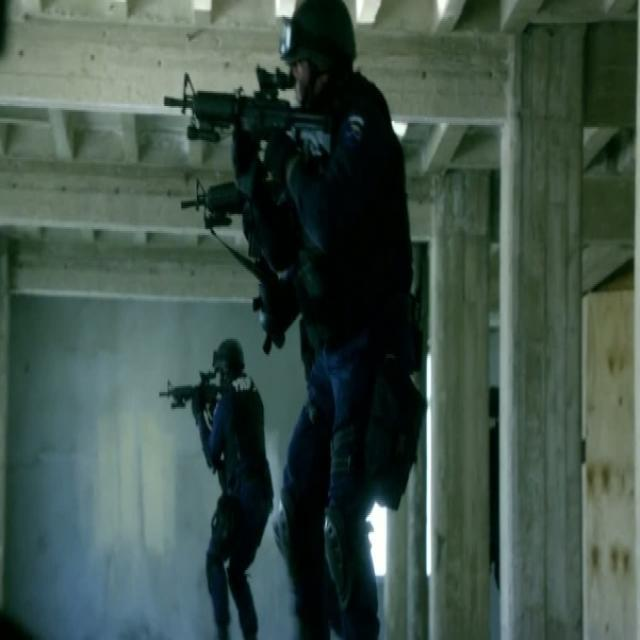rifle: (162, 62, 337, 164), (159, 369, 226, 423)
